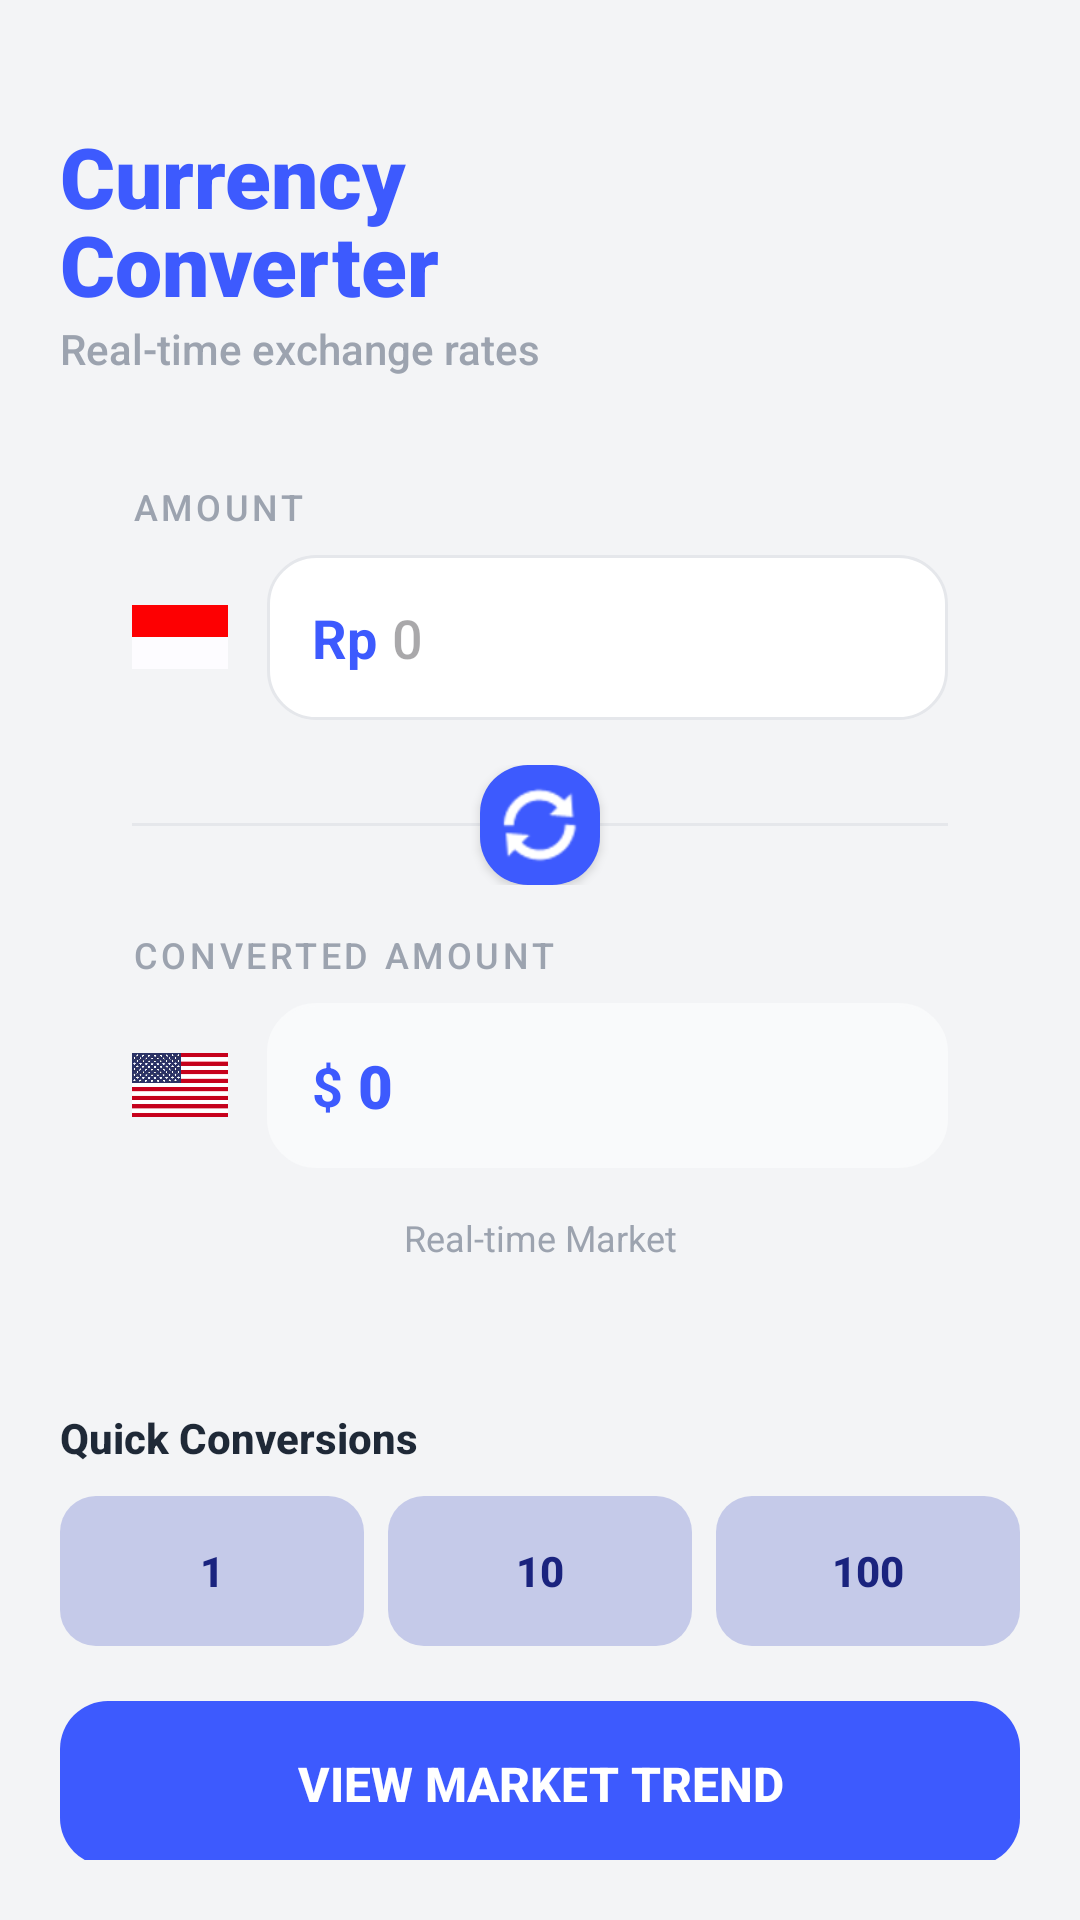

Named icons in this screenshot (1080 × 1920) and their bounding boxes, (x1, y1, x2, y2):
flag us: (132, 1053, 228, 1117)
popup sync: (480, 765, 600, 885)
